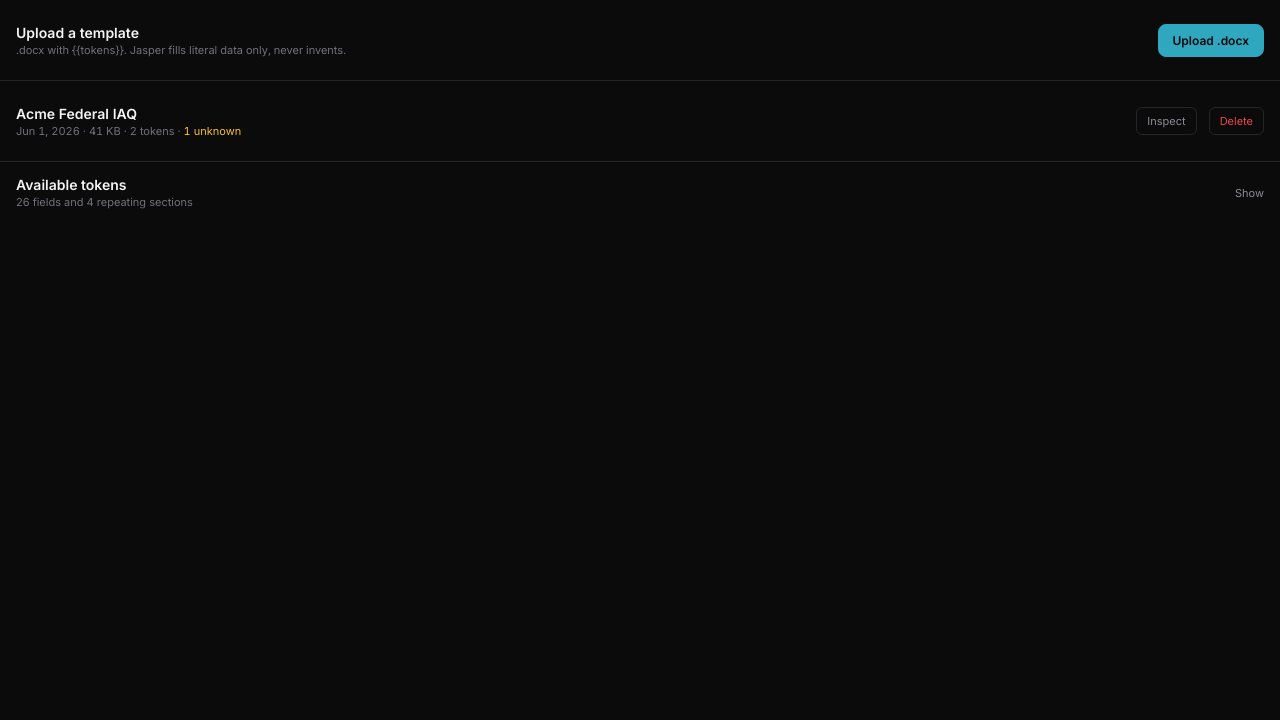
Test: ReportTemplatesPanel › deletes a template and refreshes
The image size is (1280, 720).
Click the button "Delete" at (1236, 121), box top-left (1209, 107), bottom-right (1264, 135)
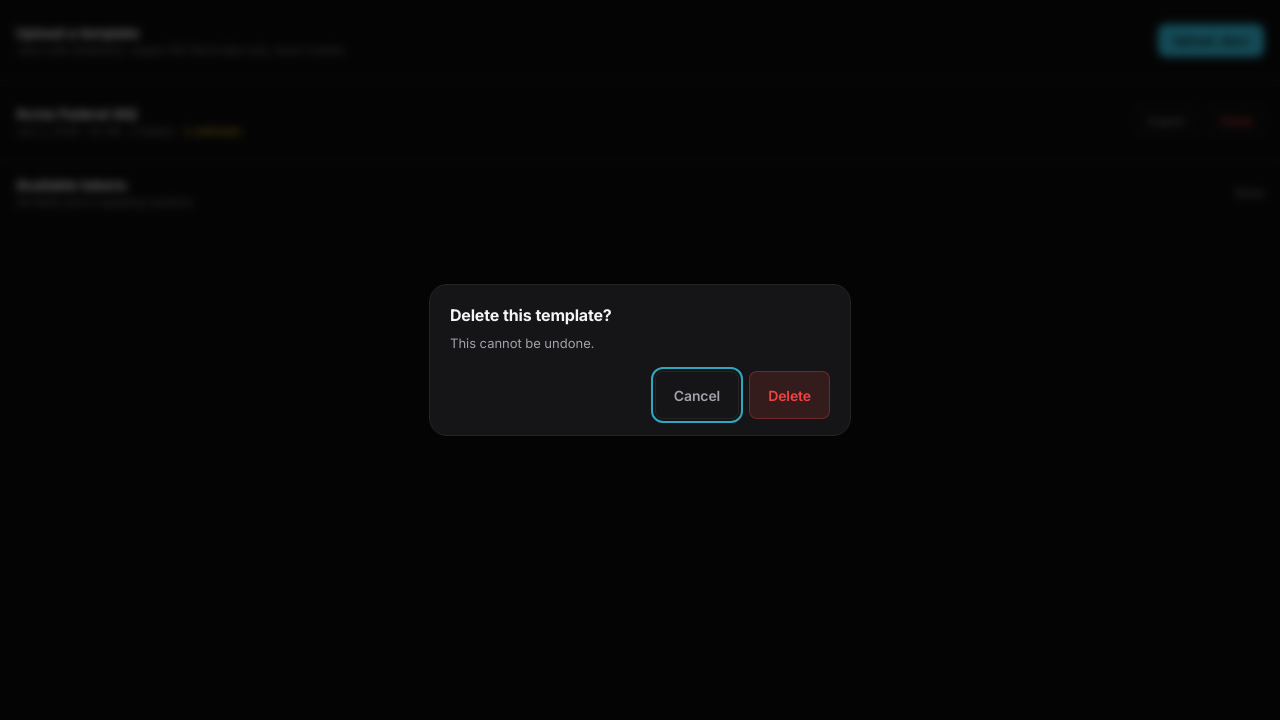
Click the button "Delete" at (790, 395), box top-left (749, 371), bottom-right (830, 419)
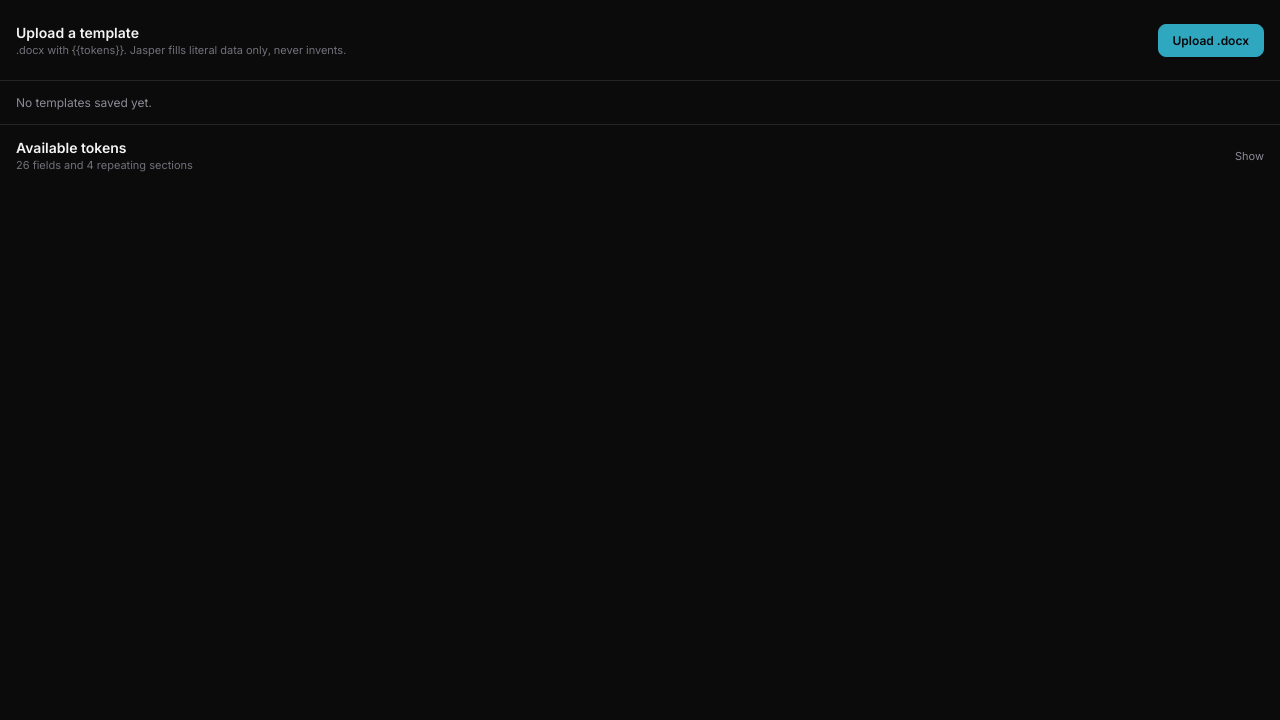
Check: the text "No templates saved yet." is shown, box top-left (0, 80), bottom-right (1279, 124)
